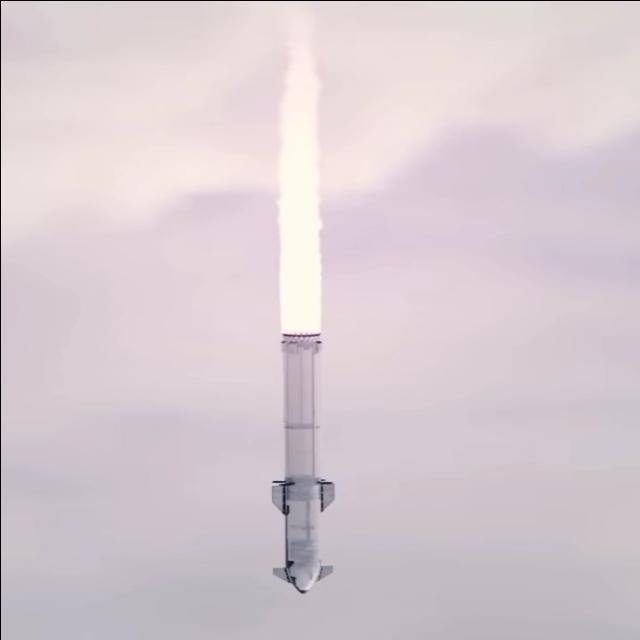Missile: (276, 328, 334, 605)
